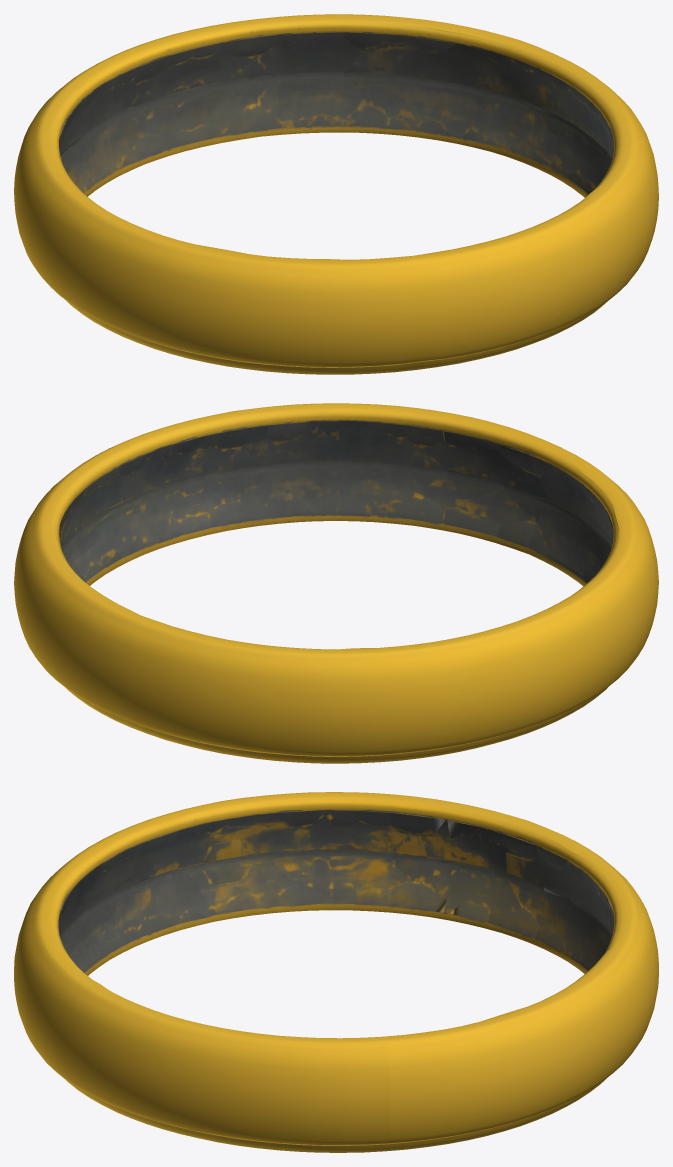
File: ring.glb
The picture shows the model from 3 angles, top to bottom: view 1: azimuth 30°, elevation 25°; view 2: azimuth 150°, elevation 25°; view 3: azimuth 270°, elevation 25°; orthographic projection.
Parts seen in each view (by area): view 1: tripo_node_52f19f71-3a49-432e-b427-1b8ea1bf0ae9; view 2: tripo_node_52f19f71-3a49-432e-b427-1b8ea1bf0ae9; view 3: tripo_node_52f19f71-3a49-432e-b427-1b8ea1bf0ae9.
Boxes of the visible parts, box(x1,y1,x2,y2) form: tripo_node_52f19f71-3a49-432e-b427-1b8ea1bf0ae9: box(14, 14, 658, 374); tripo_node_52f19f71-3a49-432e-b427-1b8ea1bf0ae9: box(14, 403, 658, 763); tripo_node_52f19f71-3a49-432e-b427-1b8ea1bf0ae9: box(14, 792, 658, 1152).
Bounding box in the file's own units: 1 × 0.1891 × 1.
Materials: 1 (1 with a texture image).
